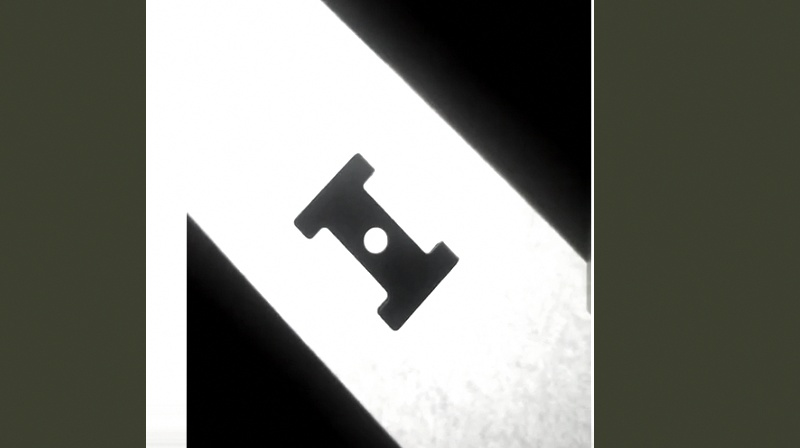O002: (290, 150, 462, 334)
